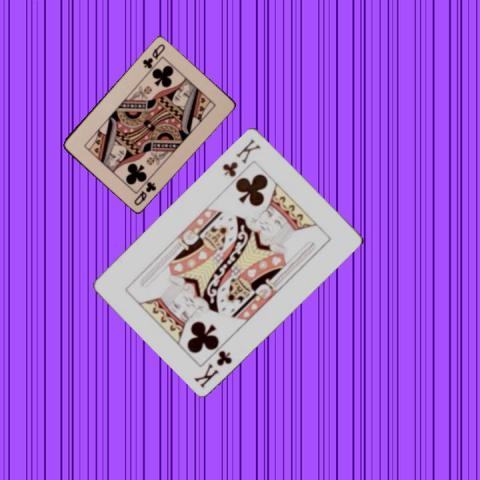Kc: (219, 134, 263, 178), (191, 346, 233, 388)
Qc: (139, 41, 167, 69), (131, 178, 157, 207)
